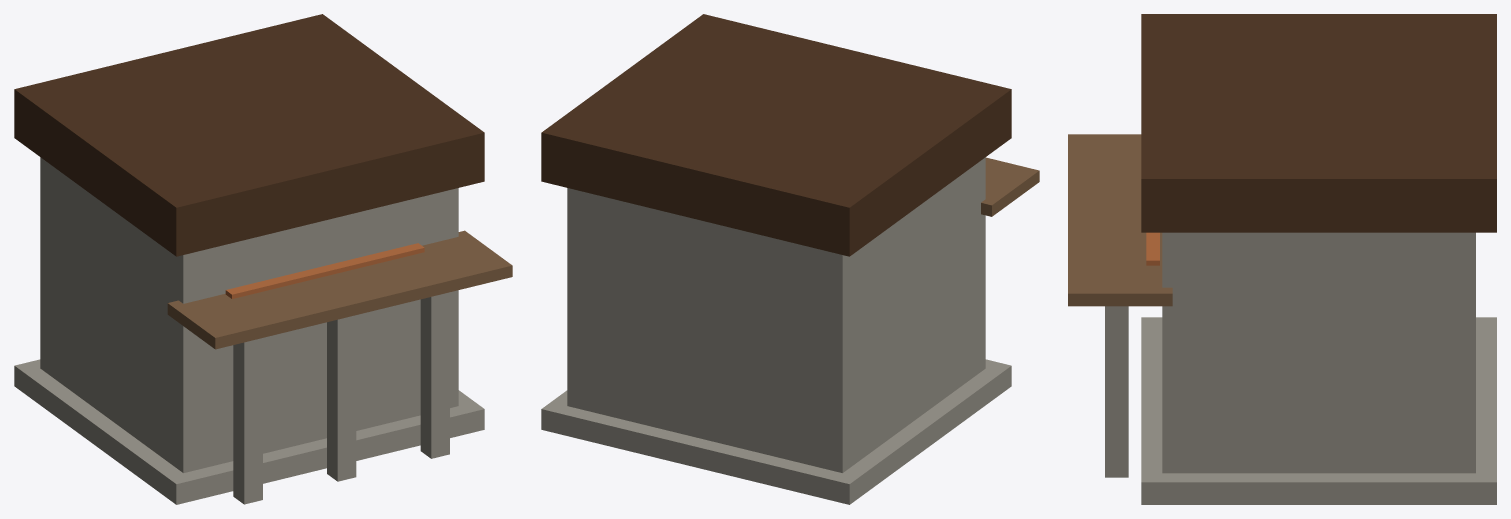
File: bld_commercial_a02_lod2.glb
3 views of the same model, side by side, from view 1: azimuth 30°, elevation 25°; view 2: azimuth 150°, elevation 25°; view 3: azimuth 270°, elevation 25° (orthographic). The views are drawn at different scales.
Visible parts, largest first — view 1: body; view 2: body; view 3: body.
Part boxes in pixels (box(x1,y1,x2,y2)): body: box(14, 14, 512, 504); body: box(541, 14, 1039, 504); body: box(1068, 14, 1496, 504).
Size of the model in its own units: 5.6 by 5.16 by 6.15.
